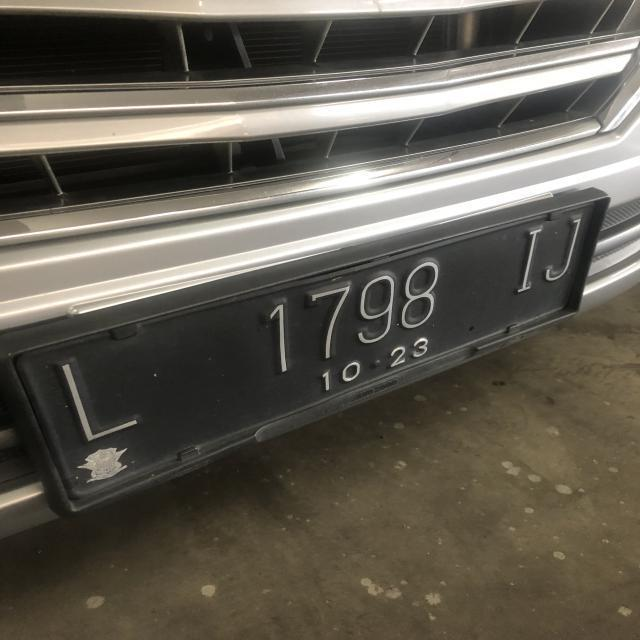1: (268, 302, 291, 376)
7: (306, 282, 351, 360)
8: (399, 260, 446, 328)
9: (358, 278, 394, 348)
I: (518, 223, 546, 294)
J: (542, 216, 584, 286)
L: (58, 360, 144, 438)
